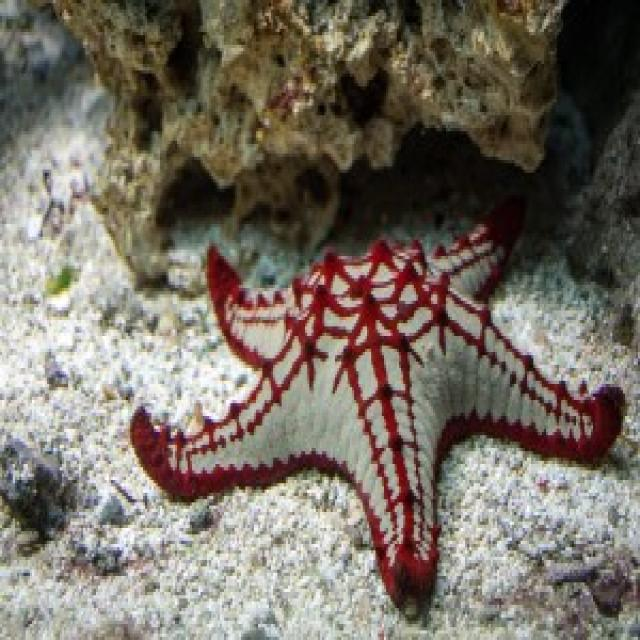Starfish: (125, 212, 628, 602)
